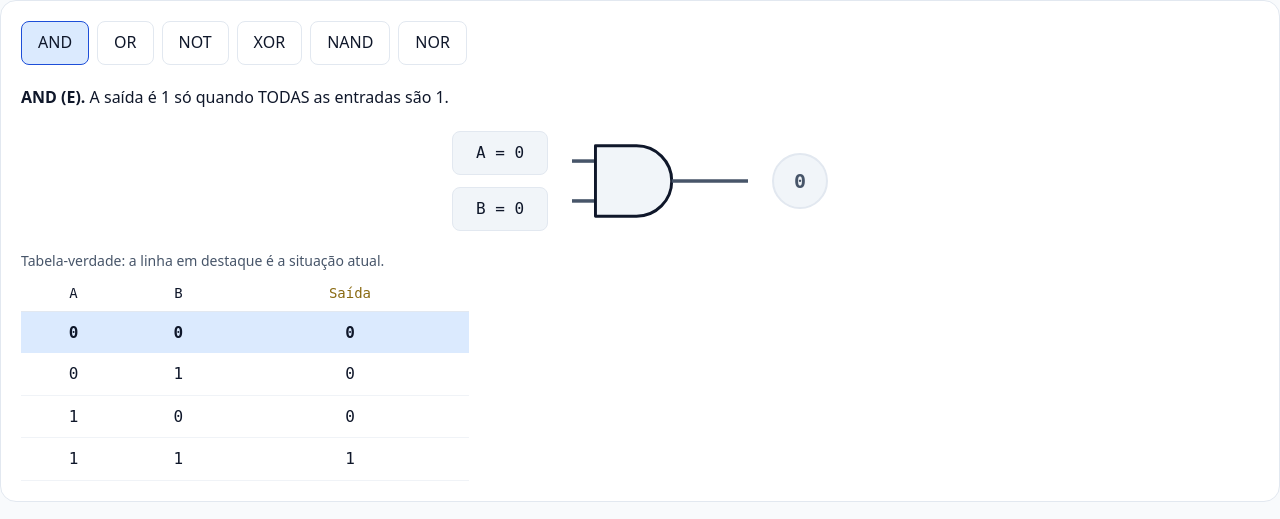
Test case: simulador de portas lógicas › trocar de porta muda a regra e a tabela destaca a linha atual
Click the button "XOR": (269, 43) [237, 21, 302, 65]
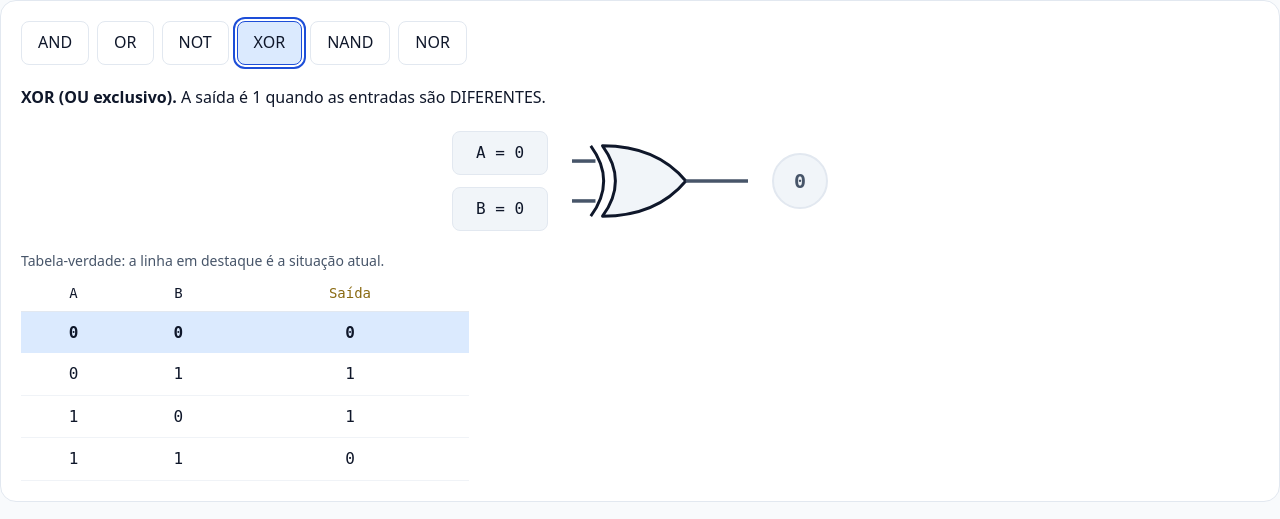
Now the text "entradas são DIFERENTES" is shown, box [181, 86, 546, 108]
Click the button named "Entrada A: 0": (500, 153) [452, 131, 548, 175]
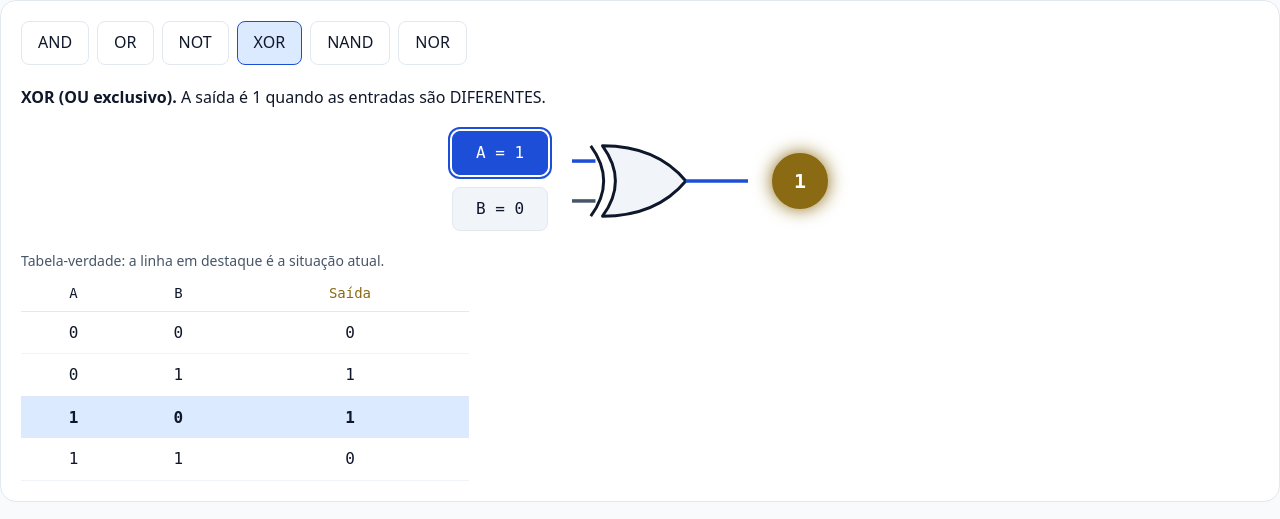
Now the picture named "Saída: 1" is shown, box [772, 153, 828, 209]
